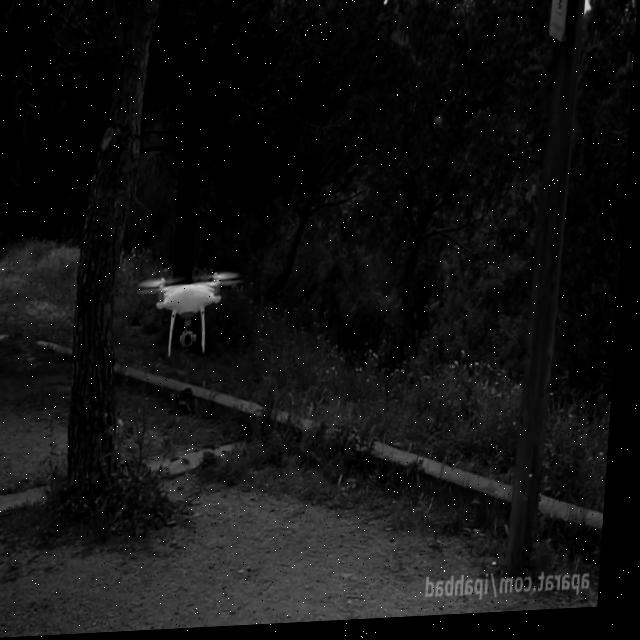drone: (136, 271, 250, 360)
